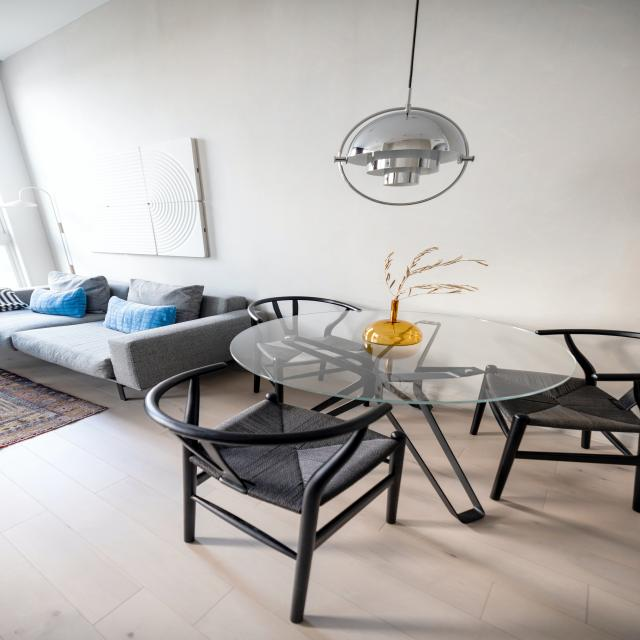a sofa: (9, 279, 246, 384)
chair: (158, 374, 368, 556), (467, 324, 640, 457), (229, 279, 377, 360)
table: (236, 308, 587, 421)
